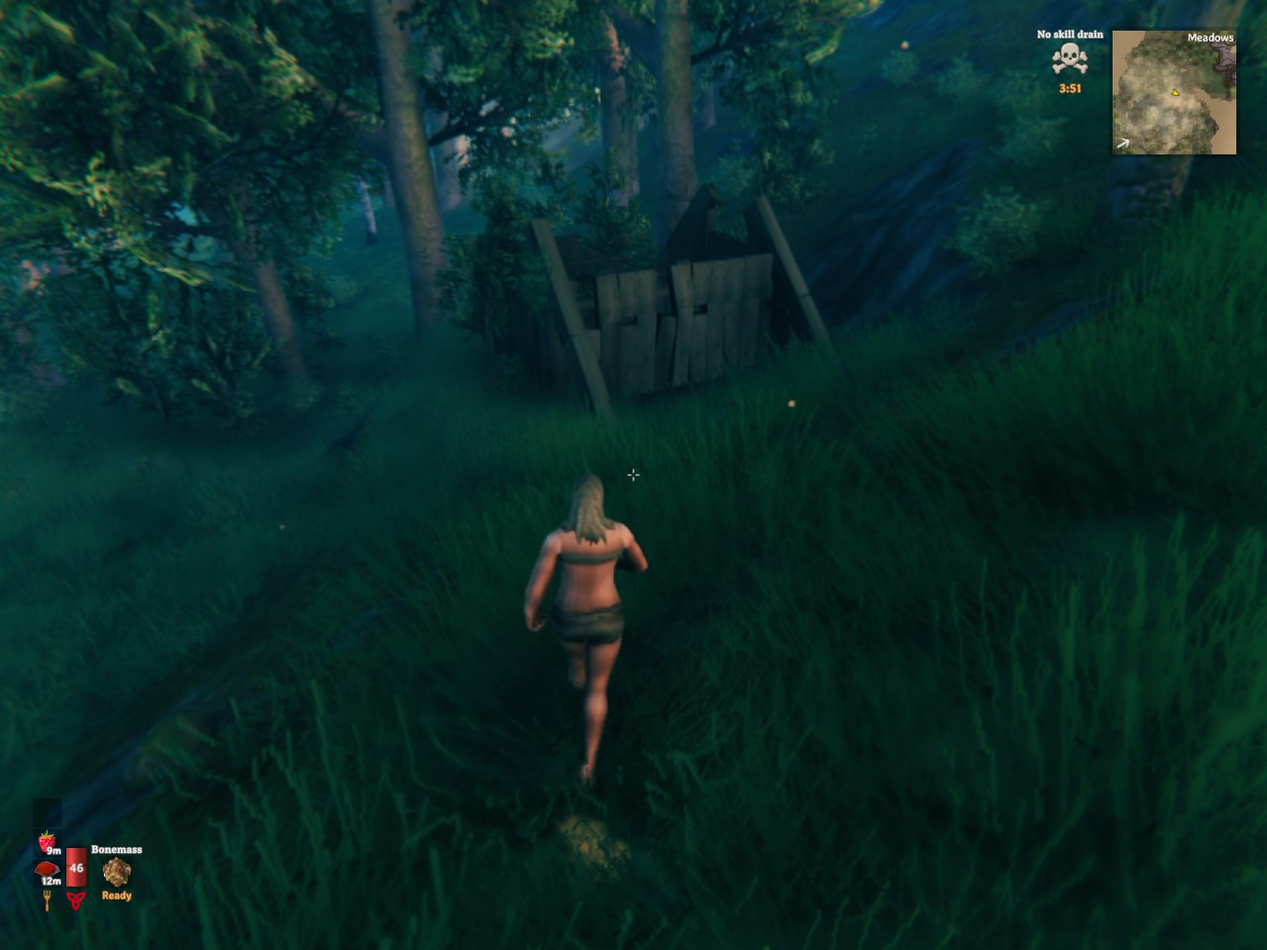House: (457, 183, 833, 398)
